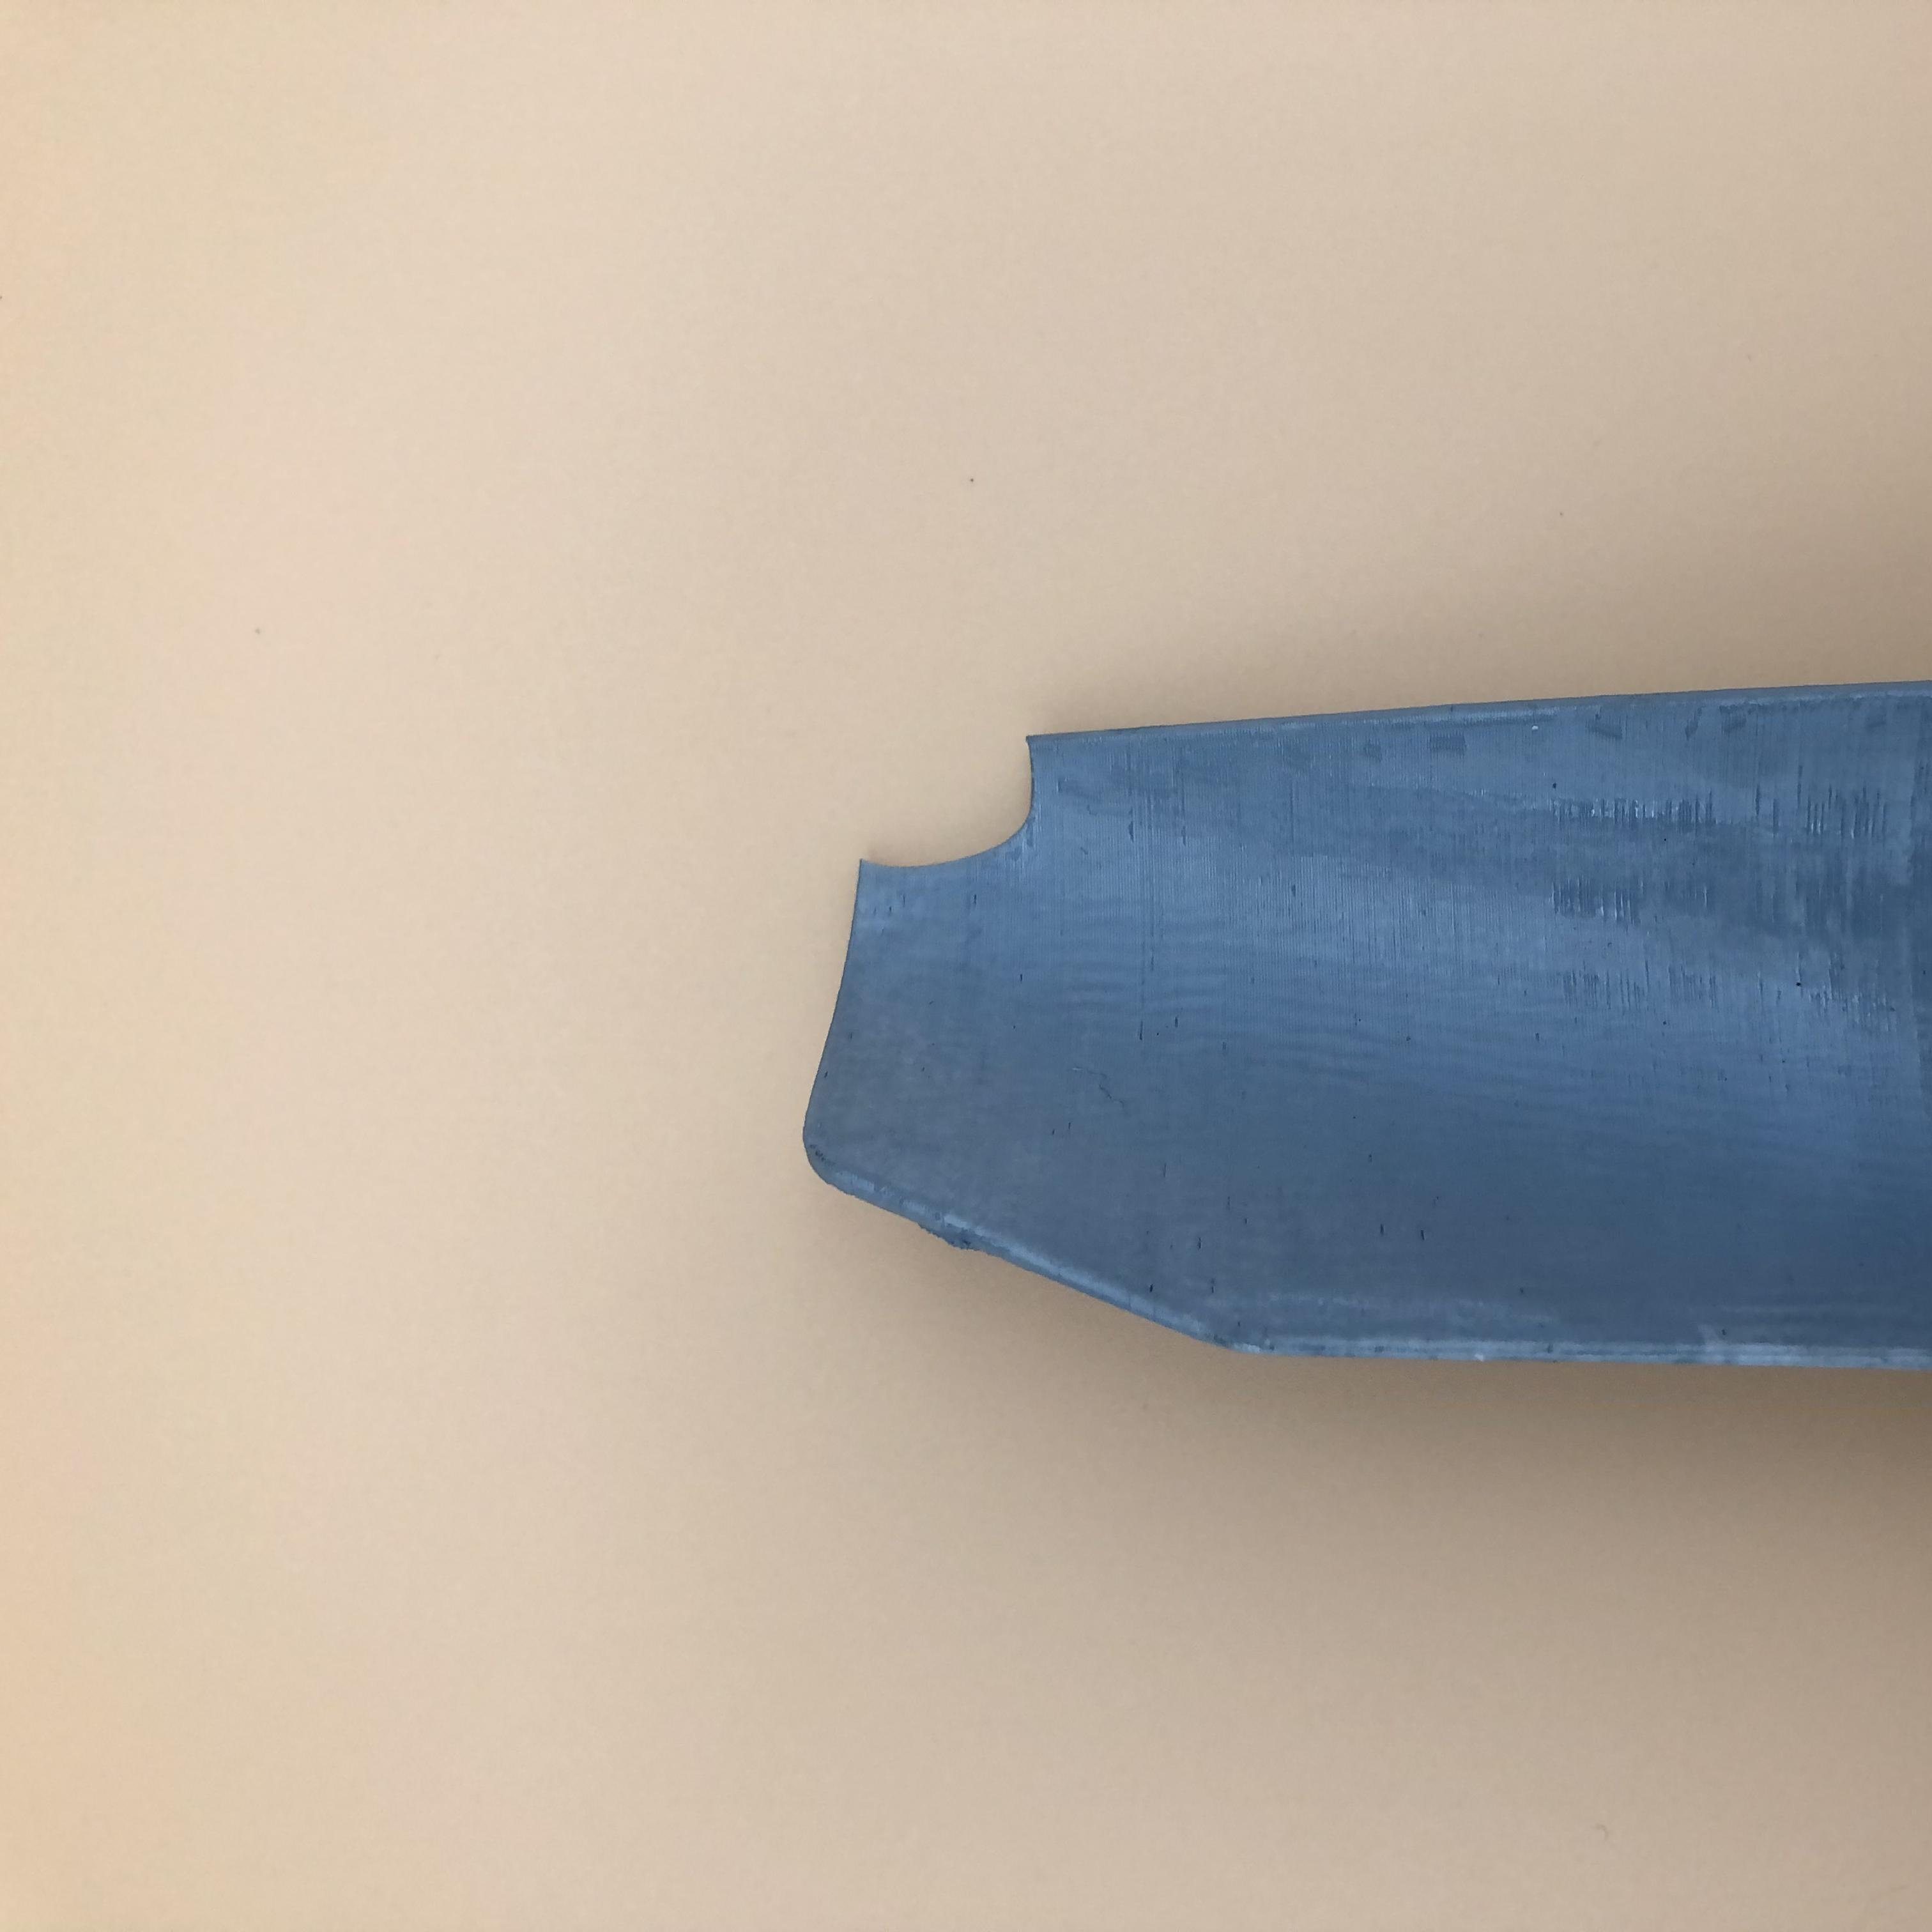fracture: (870, 759, 1070, 876)
